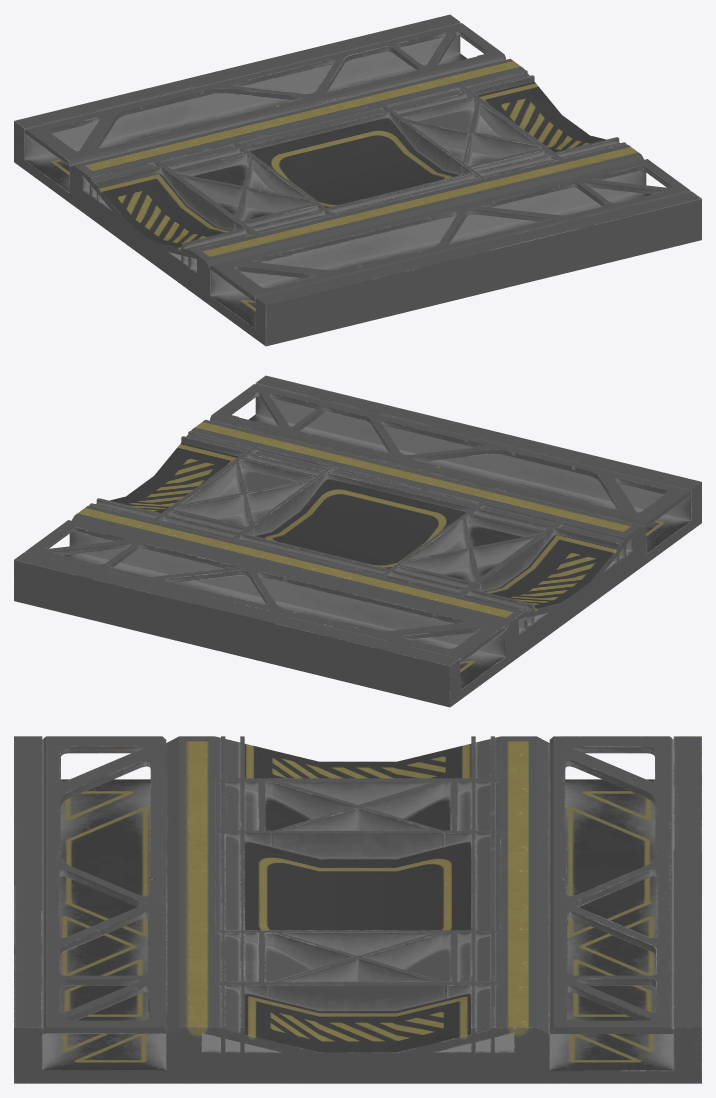
Rendered from floor047-opt.glb.
The picture shows the model from 3 angles, top to bottom: view 1: azimuth 30°, elevation 25°; view 2: azimuth 150°, elevation 25°; view 3: azimuth 270°, elevation 25°; orthographic projection. The views are drawn at different scales.
Parts seen in each view (by area): view 1: Cube.047; view 2: Cube.047; view 3: Cube.047.
Boxes of the visible parts, left/top/right/bottom form: Cube.047: left=14, top=14, right=701, bottom=346; Cube.047: left=14, top=375, right=701, bottom=707; Cube.047: left=14, top=736, right=701, bottom=1083.
Size of the model in its own units: 3.08 by 0.2789 by 3.08.
1 material, 1 textured.
